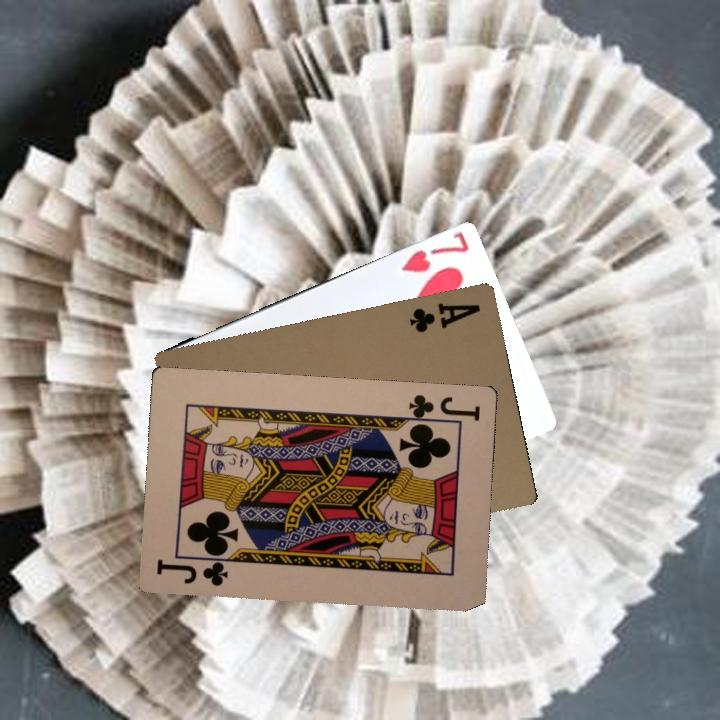7h: (397, 227, 472, 276)
Ac: (405, 298, 483, 335)
Jc: (153, 550, 234, 588), (401, 391, 483, 427)
